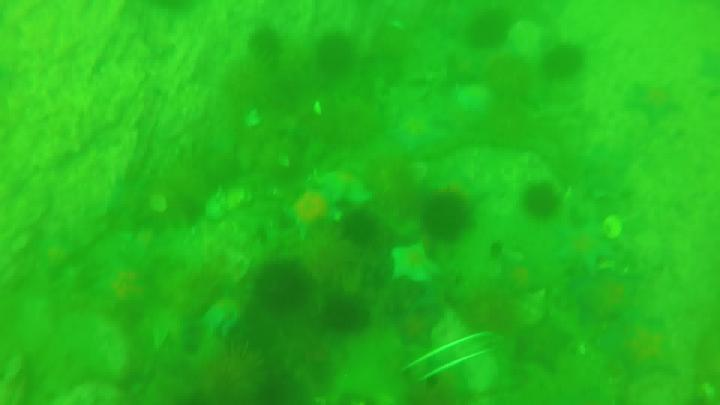echinus: (251, 260, 312, 312), (418, 192, 470, 241), (324, 294, 370, 336), (468, 15, 520, 50), (316, 29, 353, 73), (520, 186, 563, 221), (543, 47, 591, 78), (341, 207, 380, 245)
scallop: (149, 191, 171, 216), (604, 215, 625, 241), (314, 101, 328, 118)
starfish: (600, 318, 673, 384), (572, 270, 641, 338), (280, 194, 343, 240), (391, 109, 454, 154), (311, 168, 387, 205), (558, 212, 607, 266), (392, 237, 440, 283)
